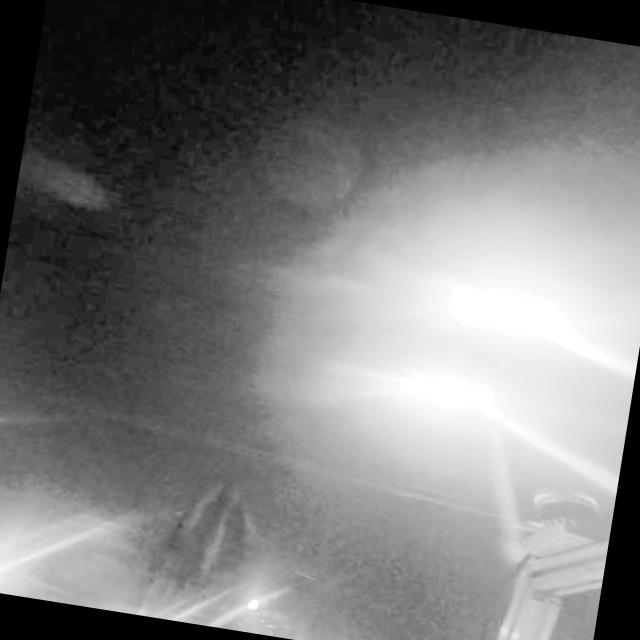Light: (447, 276, 580, 353), (396, 358, 498, 424)
